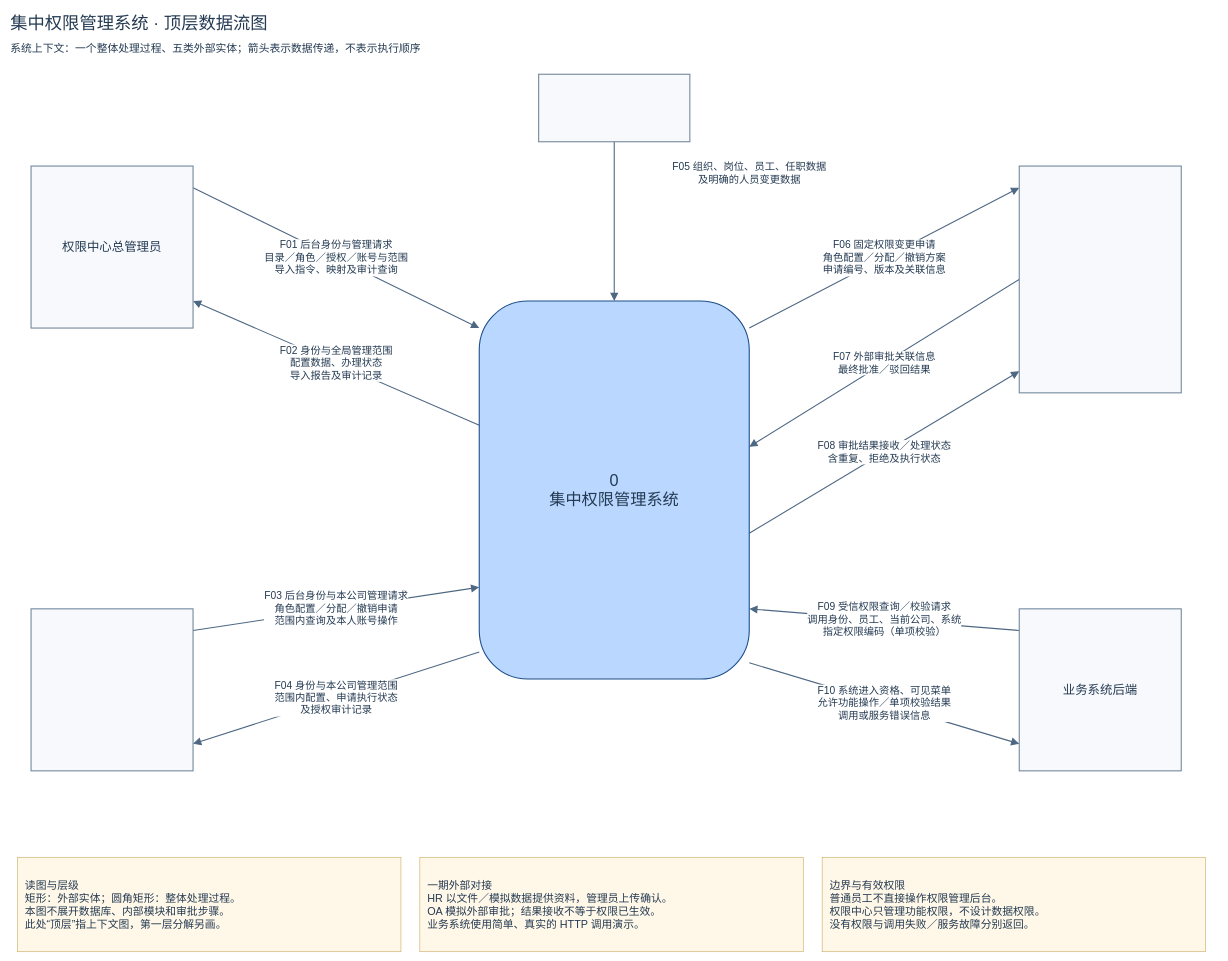
Image size: 1228x961. Some labels were removed from this diagram. The shapes that lost their labels are listed below. From the top down, each one's centre as x and y in pixels, then its label:
At pixel 614 107: "HR 系统 人员组织数据来源".
At pixel 1100 279: "OA 系统".
At pixel 111 689: "公司权限管理专员".
